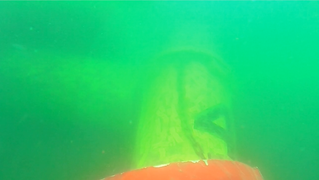4: (194, 106, 238, 162)
leak: (99, 159, 264, 180)
pipe: (128, 45, 234, 172), (1, 45, 144, 133)
